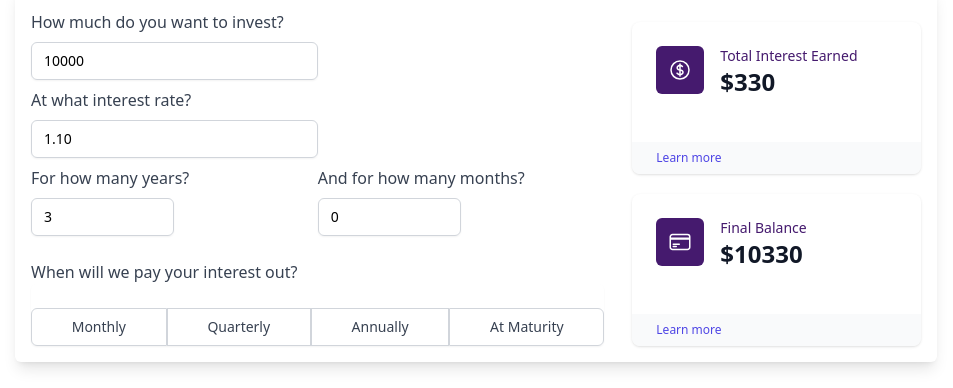
Test: Home › when the initial investment value is changed › updates the interest earned
expect the element with test id "total-interest-earned" shows "$330": met, box x1=720 y1=65 x2=775 y2=98
In the number field with test id "investmentAmount-input": (174, 61) x1=31 y1=42 x2=318 y2=80, type "10500"
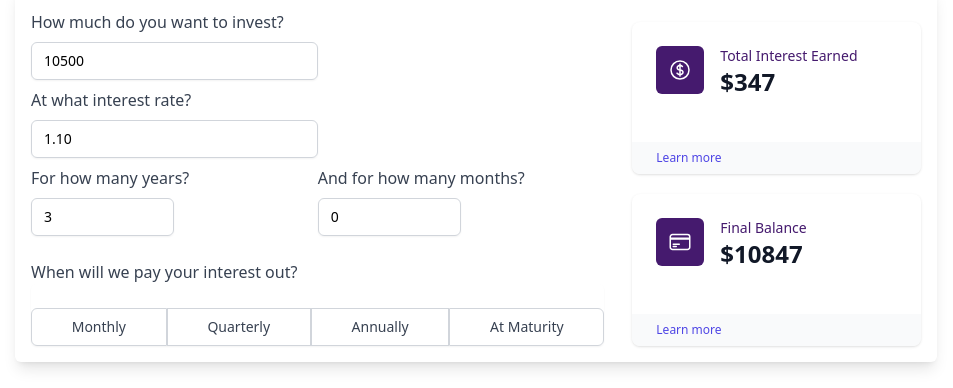
expect the element with test id "total-interest-earned" shows "$347": met, box x1=720 y1=65 x2=775 y2=98
